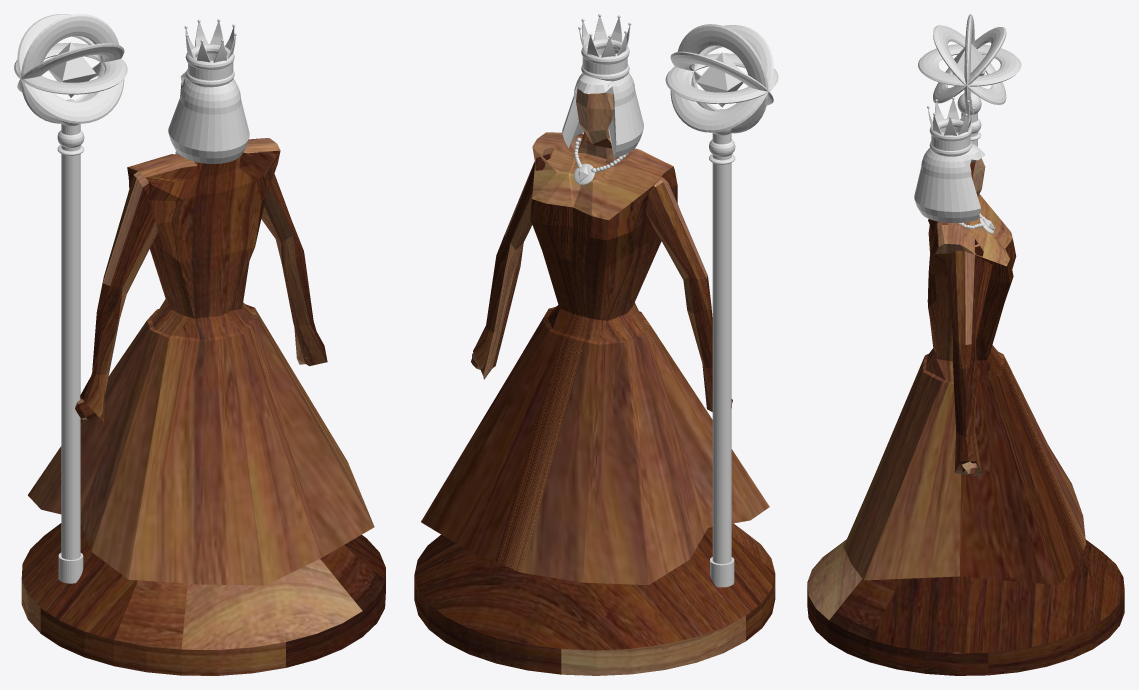
The model's file is DameSchwarz.fbx.
3 views of the same model, side by side, from view 1: azimuth 30°, elevation 25°; view 2: azimuth 150°, elevation 25°; view 3: azimuth 270°, elevation 25° (orthographic). The views are drawn at different scales.
Visible parts, largest first — view 1: SchachfigurBauer.001, Sockel, Stab_unten, Stab_ringe, SchachfigurBauer.003, Sphere, SchachfigurBauer.002, Sphere.006, Stab_Kristall; view 2: SchachfigurBauer.001, Sockel, Stab_unten, Stab_ringe, SchachfigurBauer.003, SchachfigurBauer.002, Sphere, Sphere.006, Stab_Kristall, Sphere.016; view 3: SchachfigurBauer.001, Sockel, SchachfigurBauer.002, Stab_ringe, Sphere, Sphere.006, Stab_unten.
Part boxes in pixels (x1,y1,x2,y2): SchachfigurBauer.001: [28, 75, 374, 585]; Sockel: [21, 523, 385, 675]; Stab_unten: [57, 99, 84, 583]; Stab_ringe: [14, 14, 127, 123]; SchachfigurBauer.003: [80, 171, 158, 421]; Sphere: [168, 71, 249, 163]; SchachfigurBauer.002: [261, 174, 327, 366]; Sphere.006: [184, 19, 236, 87]; Stab_Kristall: [49, 42, 95, 97]; SchachfigurBauer.001: [421, 81, 769, 585]; Sockel: [414, 523, 775, 675]; Stab_unten: [709, 109, 735, 587]; Stab_ringe: [665, 24, 778, 133]; SchachfigurBauer.003: [645, 177, 712, 411]; SchachfigurBauer.002: [471, 147, 553, 379]; Sphere: [562, 72, 643, 157]; Sphere.006: [578, 14, 631, 81]; Stab_Kristall: [696, 52, 743, 107]; Sphere.016: [573, 138, 628, 184]; SchachfigurBauer.001: [843, 158, 1085, 584]; Sockel: [807, 539, 1124, 675]; SchachfigurBauer.002: [946, 237, 992, 476]; Stab_ringe: [918, 14, 1021, 114]; Sphere: [914, 143, 984, 223]; Sphere.006: [927, 97, 974, 156]; Stab_unten: [957, 92, 981, 146].
Size of the model in its own units: 513 by 894 by 481.
